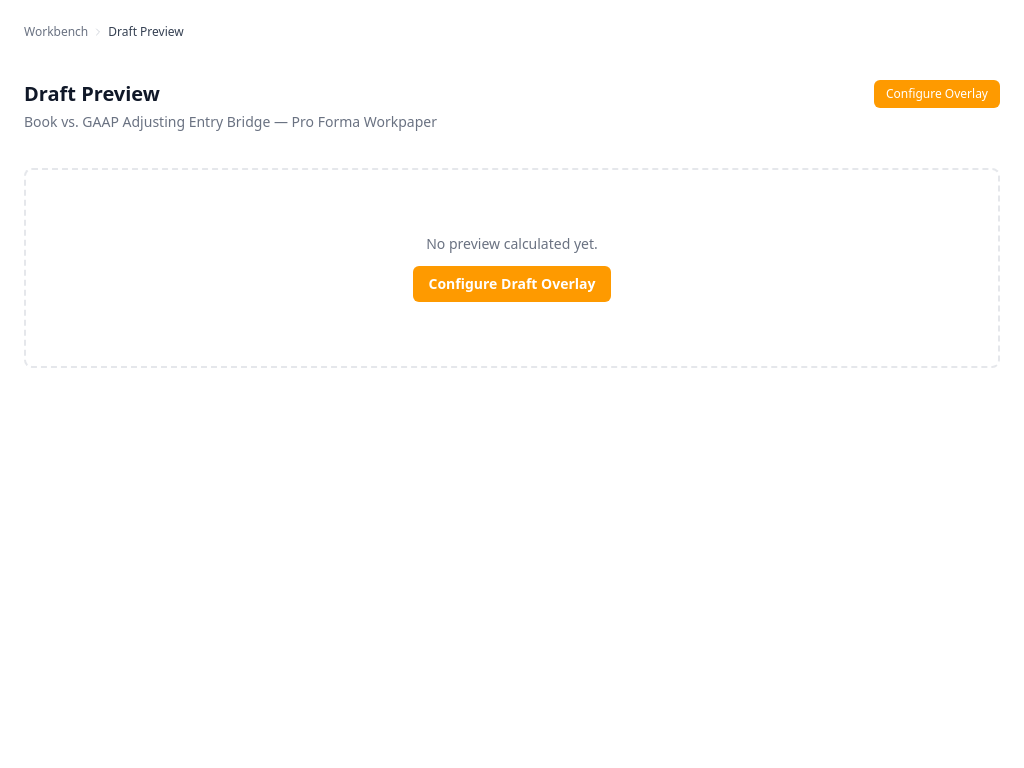
Milestone 18: Draft Overlay Preview › DraftPreviewPage shows PreviewBanner and table after overlay calculated
Later steps or results of the test are not shown.
# Open modal
Click the button with test id "open-overlay-modal": (937, 94) [874,80,1000,108]
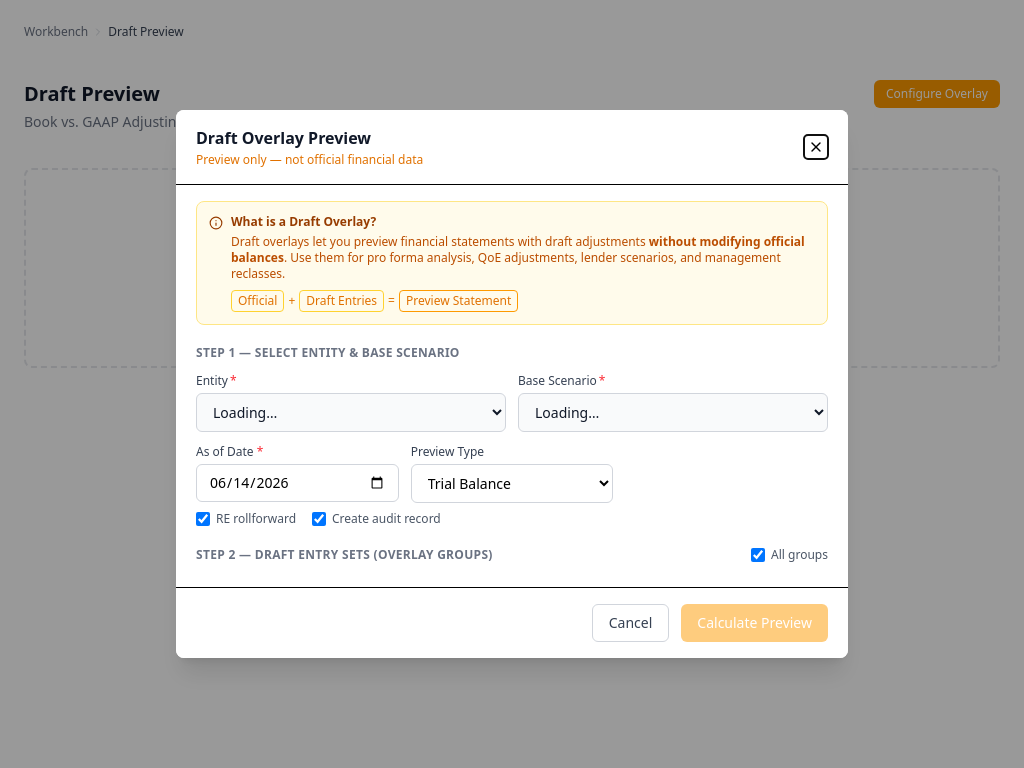
Now the dialog with test id "overlay-modal" is shown, box [176,110,848,658]
